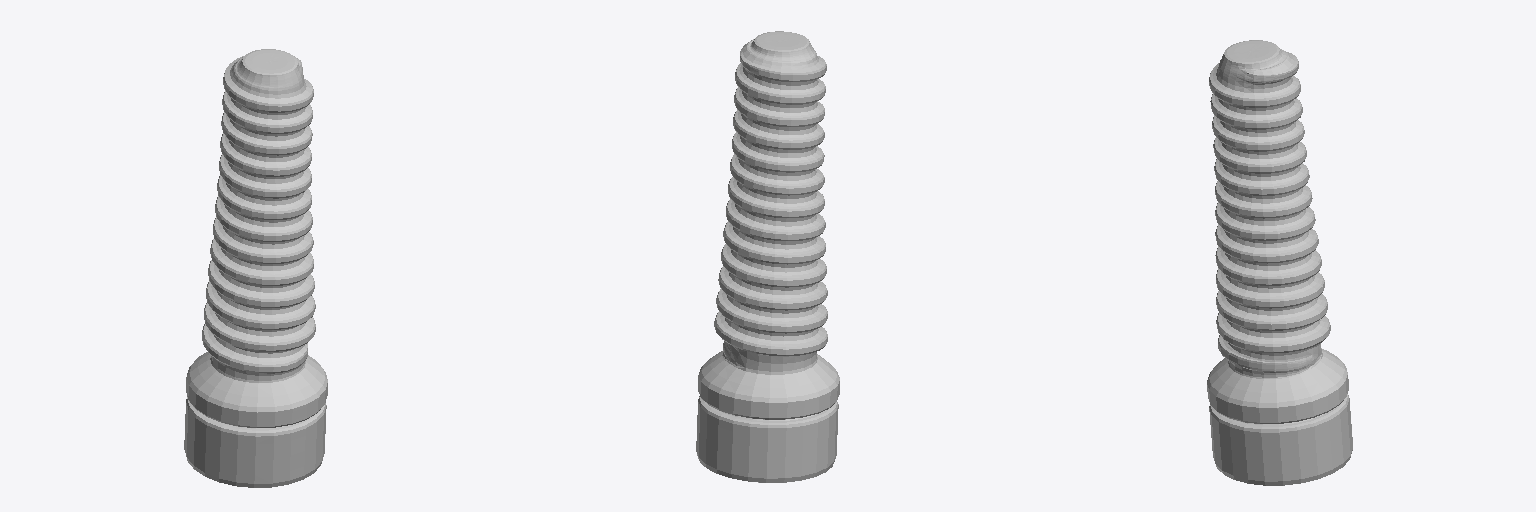
The model's file is screw_up_big.obj.
3 views of the same model, side by side, from view 1: azimuth 30°, elevation 25°; view 2: azimuth 150°, elevation 25°; view 3: azimuth 270°, elevation 25° (orthographic).
Parts seen in each view (by area): view 1: screw_down1; view 2: screw_down1; view 3: screw_down1.
Part boxes in pixels (x1,y1,x2,y2): screw_down1: (184,49,327,487); screw_down1: (696,31,839,482); screw_down1: (1207,40,1352,485).
Bounding box in the file's own units: 0.0071 × 0.0228 × 0.0074.